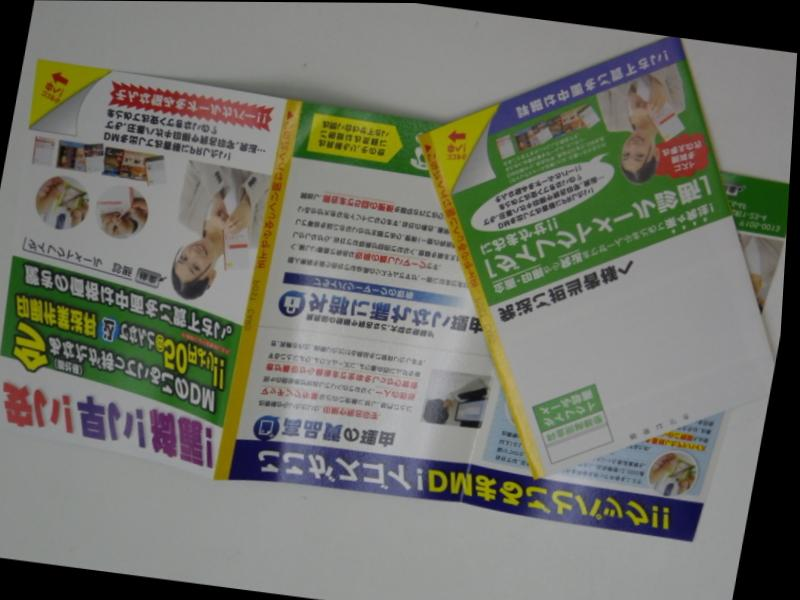paper: (0, 2, 799, 599)
